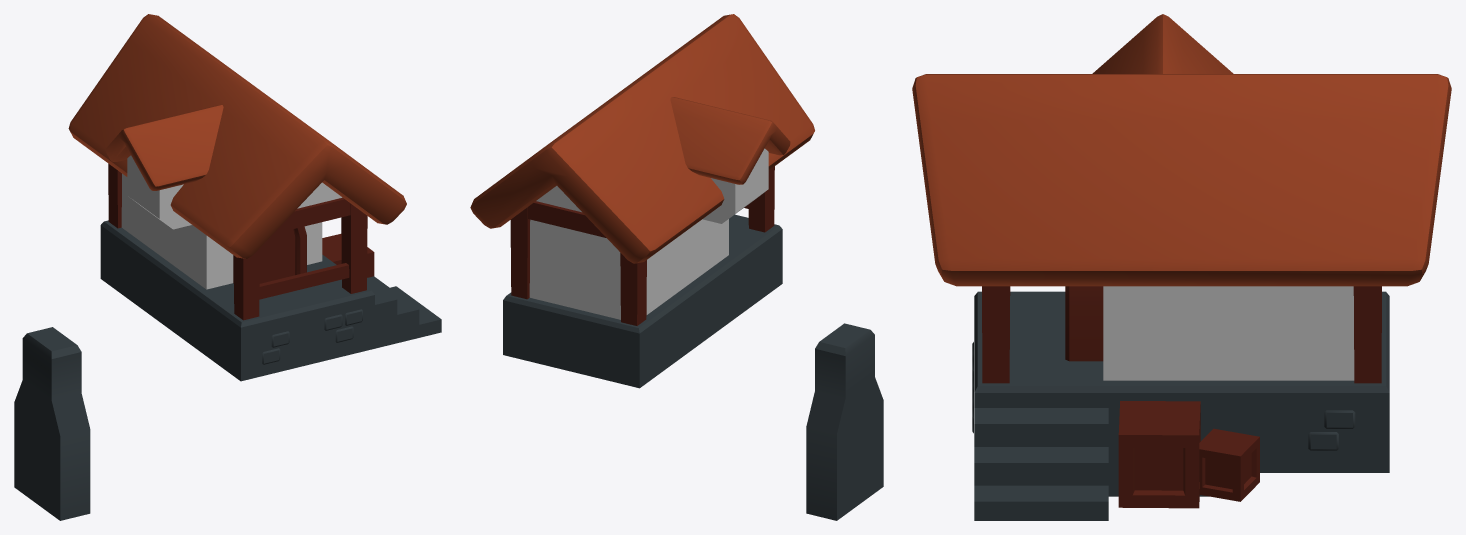
Rendered from watermill.obj.
3 renders of one model, left to right at view 1: azimuth 30°, elevation 25°; view 2: azimuth 150°, elevation 25°; view 3: azimuth 270°, elevation 25°, orthographic. The views are drawn at different scales.
Visible parts, largest first — view 1: watermill_Cube.403; view 2: watermill_Cube.403; view 3: watermill_Cube.403.
Boxes of the visible parts, bbox=[...] form: watermill_Cube.403: bbox=[14, 14, 441, 520]; watermill_Cube.403: bbox=[470, 14, 883, 520]; watermill_Cube.403: bbox=[912, 14, 1451, 520].
Bounding box in the file's own units: 1.53 × 1.6 × 1.42.
